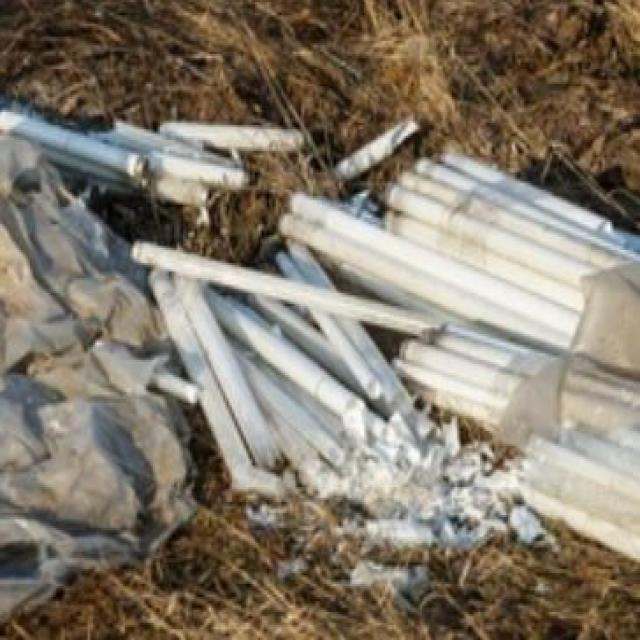electronic: (276, 144, 638, 582), (0, 88, 302, 211)
